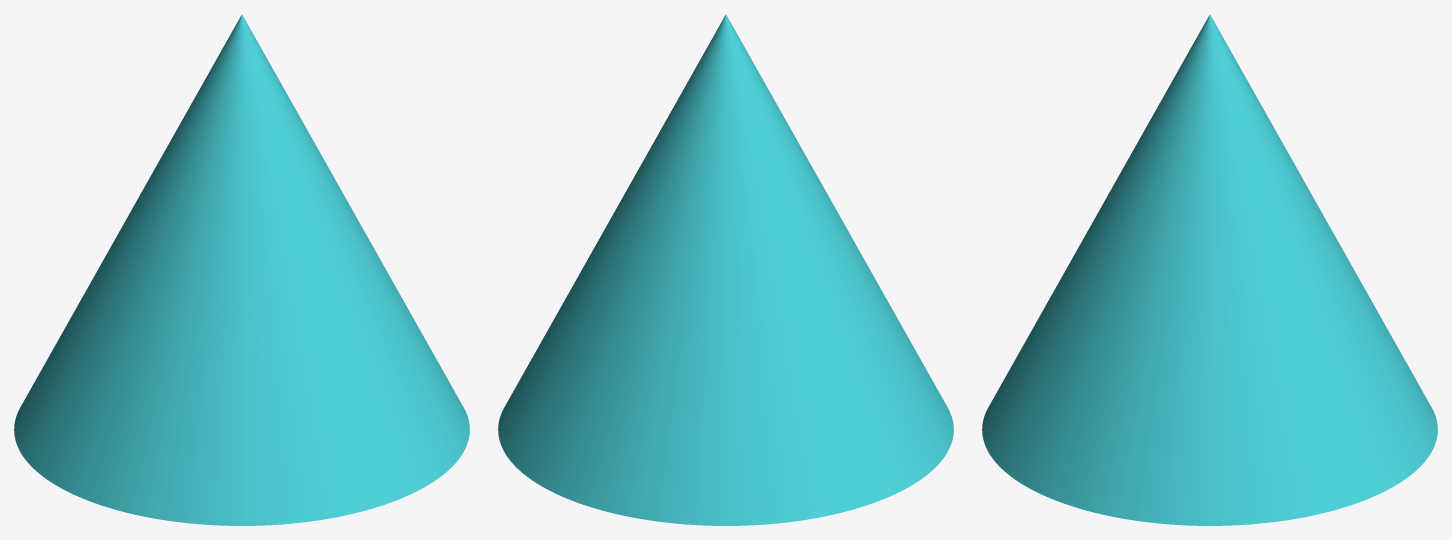
3 renders of one model, left to right at view 1: azimuth 30°, elevation 25°; view 2: azimuth 150°, elevation 25°; view 3: azimuth 270°, elevation 25°, orthographic.
Parts seen in each view (by area): view 1: Cylinder; view 2: Cylinder; view 3: Cylinder.
Boxes of the visible parts, <box> form: Cylinder: <box>14,14,469,525</box>; Cylinder: <box>498,14,953,525</box>; Cylinder: <box>982,14,1437,525</box>.
Size of the model in its own units: 199 by 200 by 199.
